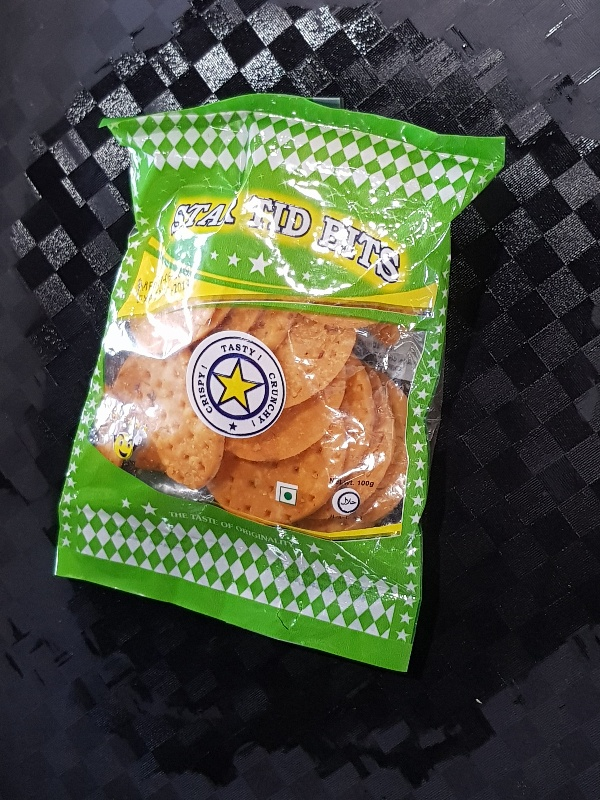Star Tidbits 'O' Ring: (51, 94, 506, 676)
